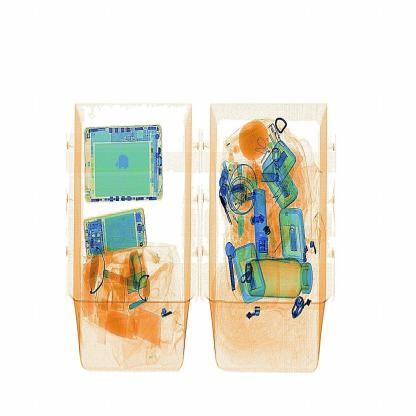pliers: (245, 178, 278, 261)
